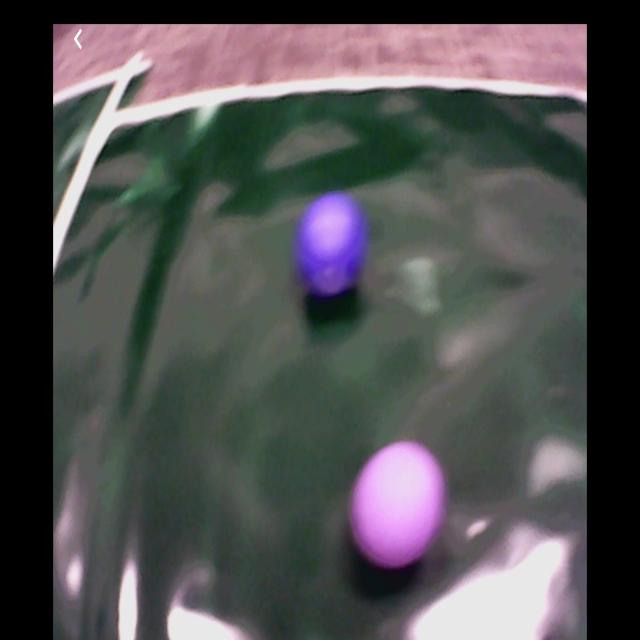ball: (349, 438, 448, 576), (295, 194, 369, 299)
